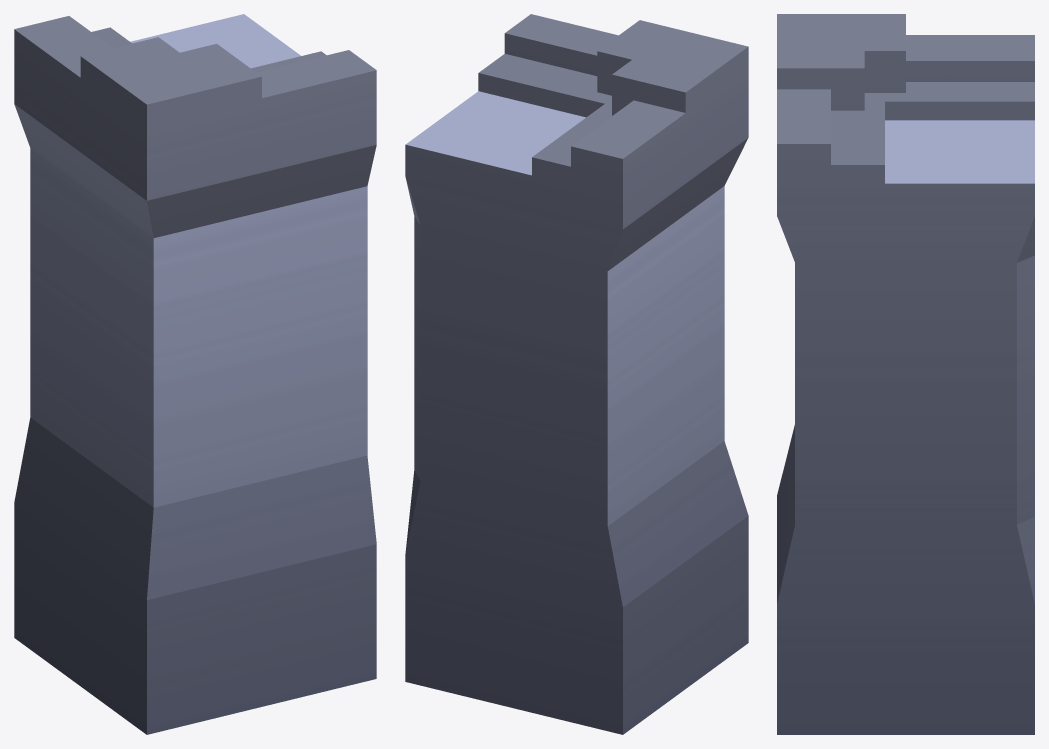
The model's file is wall-narrow-corner.fbx.
3 views of the same model, side by side, from view 1: azimuth 30°, elevation 25°; view 2: azimuth 150°, elevation 25°; view 3: azimuth 270°, elevation 25° (orthographic). The views are drawn at different scales.
Parts seen in each view (by area): view 1: wall-narrow-corner; view 2: wall-narrow-corner; view 3: wall-narrow-corner.
Part boxes in pixels (x1,y1,x2,y2): wall-narrow-corner: [14, 14, 376, 734]; wall-narrow-corner: [405, 14, 748, 734]; wall-narrow-corner: [777, 14, 1034, 734].
Size of the model in its own units: 0.5 by 0.5 by 1.31.
